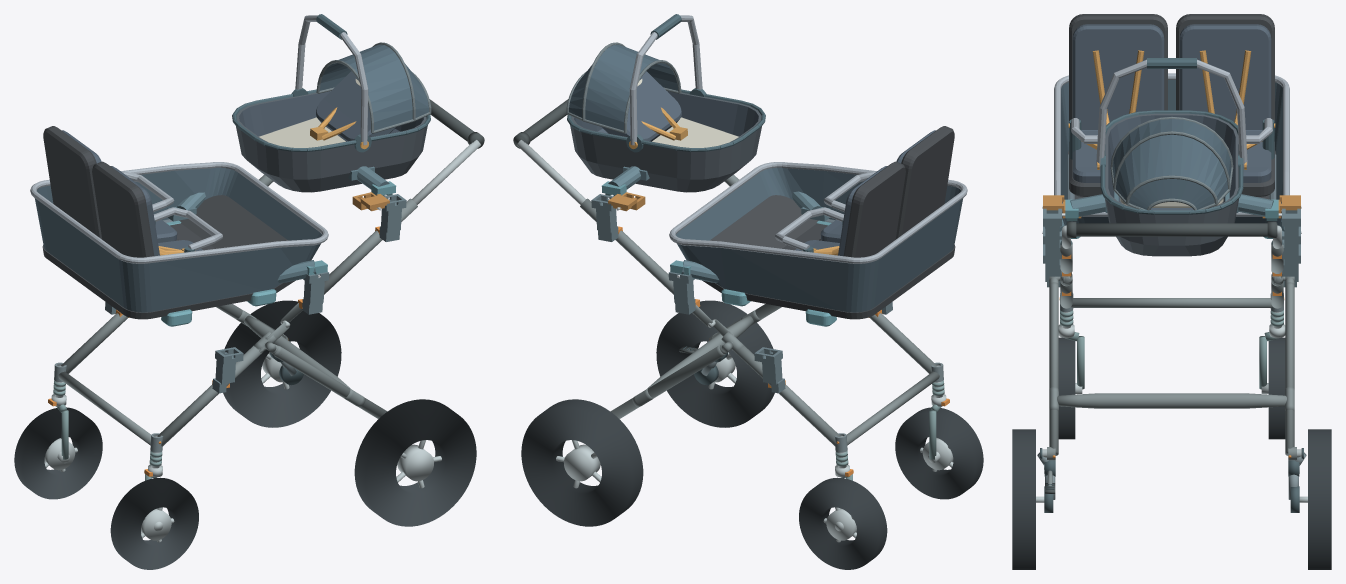
The model's file is D32_w650_state1_wheel_L.glb.
3 views of the same model, side by side, from view 1: azimuth 30°, elevation 25°; view 2: azimuth 150°, elevation 25°; view 3: azimuth 270°, elevation 25° (orthographic). The views are drawn at different scales.
Parts seen in each view (by area): view 1: D32_Lower, D32_Upper, RL_tire.008, RR_tire.008, FL_tire.008, FR_tire.008, V46_rear_leg_-1.009, main_lower_-1.009, D32_Lower_Mount_M, front_fixed_round_tube.008, main_upper_-1.009, RL_sealed_hub.008 (+9 smaller); view 2: D32_Lower, D32_Upper, RR_tire.008, RL_tire.008, FR_tire.008, FL_tire.008, V46_rear_leg_1.009, main_lower_1.009, D32_Lower_Mount_M, front_fixed_round_tube.008, main_upper_1.009, RR_sealed_hub.008 (+9 smaller); view 3: D32_Lower, D32_Upper, V46_rearbar.009, RL_tire.008, RR_tire.008, round_handle.008, front_fixed_round_tube.008, D32_Upper_Mount_H, FL_tire.008, FR_tire.008, V46_rear_leg_1.009, V46_rear_leg_-1.009 (+4 smaller).
Boxes of the visible parts, x1,y1,x2,y2 form: D32_Lower: [30, 126, 328, 326]; D32_Upper: [232, 14, 431, 192]; RL_tire.008: [354, 399, 476, 526]; RR_tire.008: [223, 300, 341, 427]; FL_tire.008: [110, 477, 198, 569]; FR_tire.008: [14, 407, 102, 499]; V46_rear_leg_-1.009: [272, 345, 387, 418]; main_lower_-1.009: [157, 345, 264, 446]; D32_Lower_Mount_M: [167, 192, 327, 283]; front_fixed_round_tube.008: [58, 371, 150, 445]; main_upper_-1.009: [324, 198, 417, 294]; RL_sealed_hub.008: [397, 444, 433, 481]; D32_Lower: [669, 126, 967, 326]; D32_Upper: [566, 14, 765, 192]; RR_tire.008: [521, 399, 643, 526]; RL_tire.008: [656, 300, 774, 427]; FR_tire.008: [799, 477, 887, 569]; FL_tire.008: [895, 407, 983, 499]; V46_rear_leg_1.009: [610, 345, 725, 418]; main_lower_1.009: [733, 345, 840, 446]; D32_Lower_Mount_M: [670, 191, 830, 282]; front_fixed_round_tube.008: [847, 371, 939, 445]; main_upper_1.009: [580, 198, 673, 294]; RR_sealed_hub.008: [564, 444, 600, 481]; D32_Lower: [1054, 14, 1289, 238]; D32_Upper: [1096, 58, 1247, 256]; V46_rearbar.009: [1057, 393, 1286, 408]; RL_tire.008: [1012, 429, 1035, 569]; RR_tire.008: [1308, 429, 1331, 569]; round_handle.008: [1066, 223, 1277, 236]; front_fixed_round_tube.008: [1071, 298, 1272, 307]; D32_Upper_Mount_H: [1062, 191, 1281, 220]; FL_tire.008: [1058, 337, 1075, 439]; FR_tire.008: [1268, 337, 1285, 439]; V46_rear_leg_1.009: [1285, 282, 1294, 455]; V46_rear_leg_-1.009: [1049, 282, 1058, 455].
Size of the model in its own units: 1.2 by 1.4 by 0.8171.
